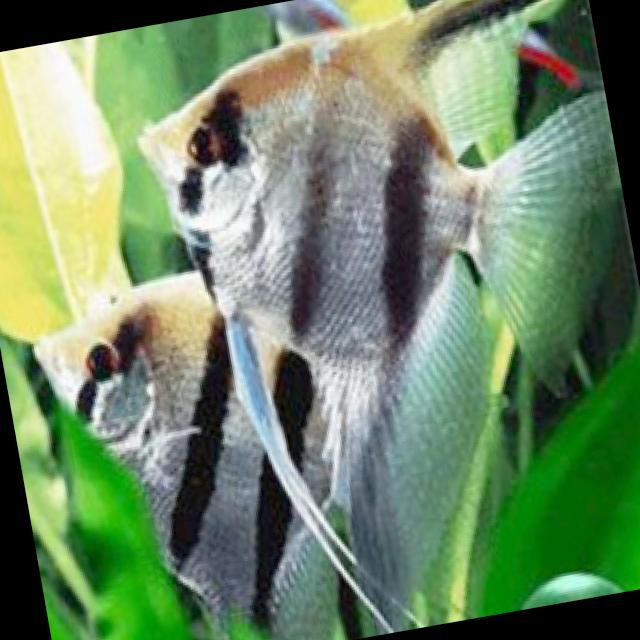AngelFish: (118, 0, 640, 634), (24, 255, 347, 640)
